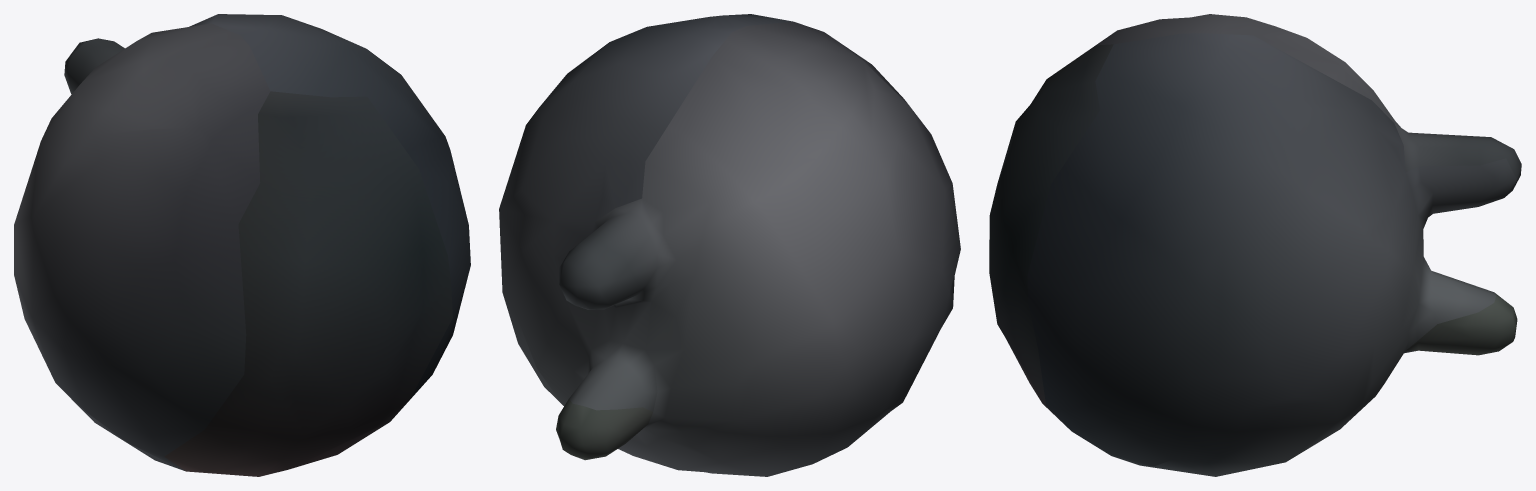
The model's file is mine.glb.
3 views of the same model, side by side, from view 1: azimuth 30°, elevation 25°; view 2: azimuth 150°, elevation 25°; view 3: azimuth 270°, elevation 25° (orthographic).
Visible parts, largest first — view 1: mine; view 2: mine; view 3: mine.
Part boxes in pixels (bbox=[...]): mine: bbox=[14, 14, 470, 476]; mine: bbox=[499, 14, 960, 476]; mine: bbox=[989, 14, 1521, 476].
Size of the model in its own units: 0.0298 by 0.0297 by 0.0343.
Materials: 1 (1 with a texture image).
